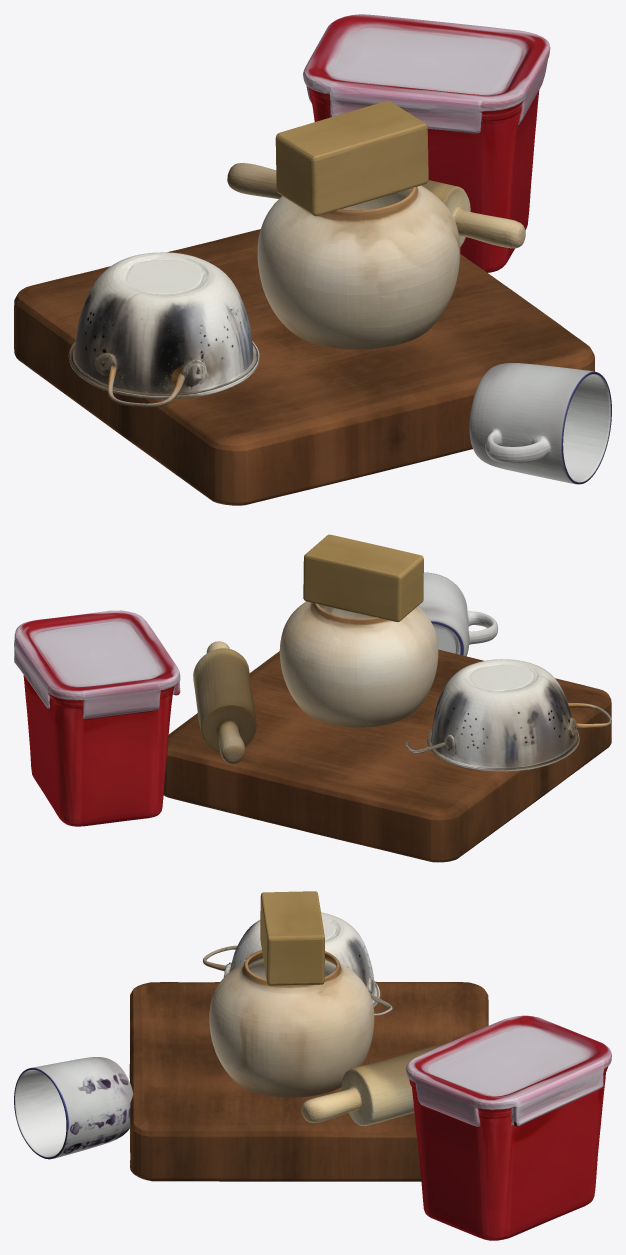
The model's file is phi-scene.glb.
The picture shows the model from 3 angles, top to bottom: view 1: azimuth 30°, elevation 25°; view 2: azimuth 150°, elevation 25°; view 3: azimuth 270°, elevation 25°; orthographic projection. The views are drawn at different scales.
Parts seen in each view (by area): view 1: object_06, object_05, object_04, object_03, object_02, object_01, object_00; view 2: object_06, object_05, object_04, object_03, object_01, object_00, object_02; view 3: object_06, object_05, object_04, object_02, object_01, object_00, object_03.
Part boxes in pixels (x1,y1,x2,y2): object_06: [14, 229, 594, 505]; object_05: [303, 14, 550, 272]; object_04: [257, 185, 460, 349]; object_03: [68, 252, 259, 407]; object_02: [469, 363, 611, 484]; object_01: [275, 100, 428, 216]; object_00: [227, 163, 525, 248]; object_06: [163, 649, 611, 862]; object_05: [14, 610, 180, 826]; object_04: [279, 601, 438, 727]; object_03: [405, 659, 611, 771]; object_01: [303, 534, 423, 622]; object_00: [193, 641, 256, 764]; object_02: [418, 572, 498, 656]; object_06: [129, 981, 488, 1181]; object_05: [406, 1015, 611, 1240]; object_04: [209, 950, 374, 1097]; object_02: [14, 1057, 133, 1159]; object_01: [260, 891, 324, 985]; object_00: [301, 1040, 454, 1126]; object_03: [203, 912, 392, 1015].
Size of the model in its own units: 0.9414 by 0.395 by 1.01.
Materials: 7 (7 with a texture image).
